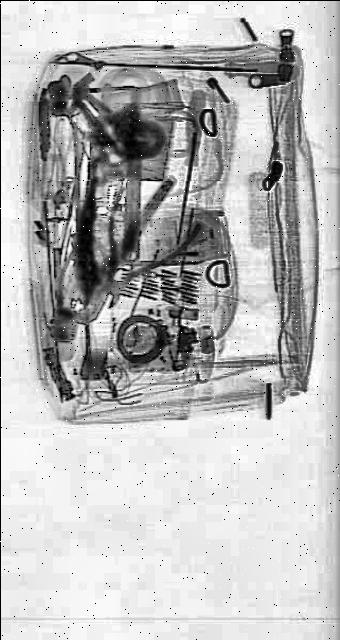Pliers: (41, 110, 173, 352), (78, 136, 202, 352)
